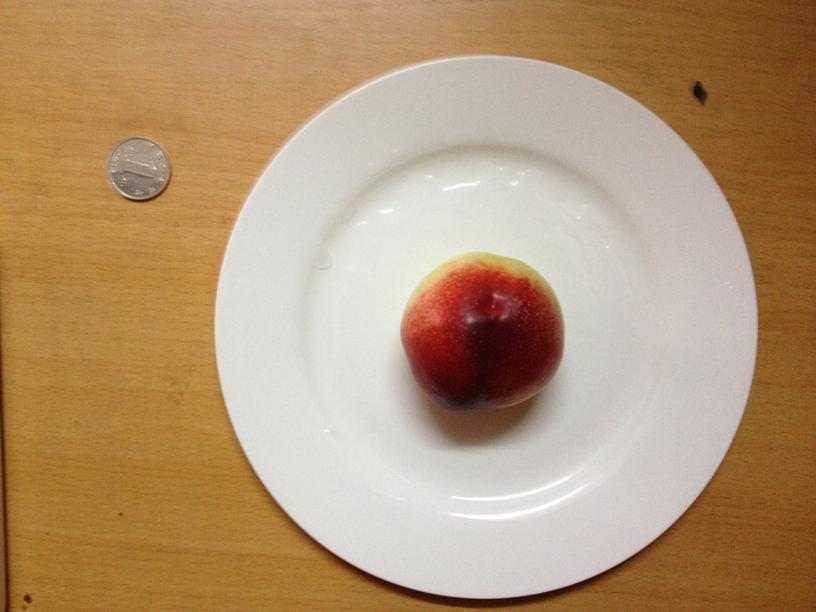coin: (105, 134, 172, 203)
peach: (396, 250, 566, 415)
